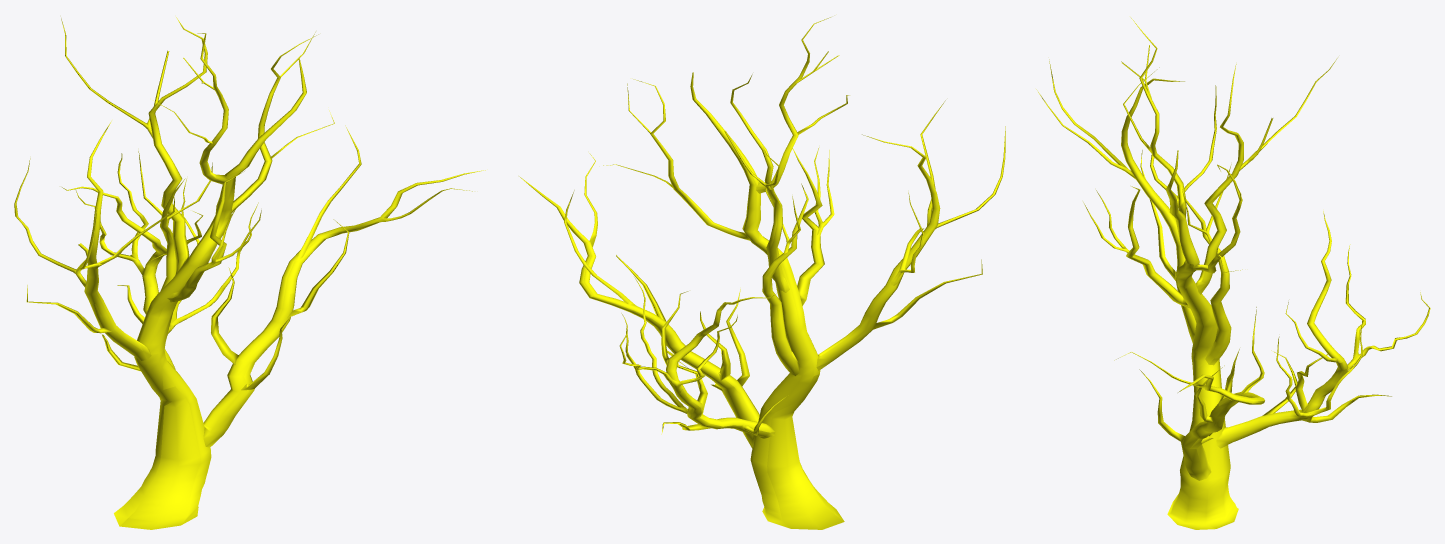
The picture shows the model from 3 angles, left to right: view 1: azimuth 30°, elevation 25°; view 2: azimuth 150°, elevation 25°; view 3: azimuth 270°, elevation 25°; orthographic projection. The views are drawn at different scales.
Parts seen in each view (by area): view 1: 枯树; view 2: 枯树; view 3: 枯树.
Boxes of the visible parts, box(x1,y1,x2,y2) form: 枯树: box(14, 17, 485, 529); 枯树: box(519, 17, 1005, 529); 枯树: box(1036, 18, 1430, 529).
Size of the model in its own units: 8.86 by 8.96 by 6.47.
1 material, 1 textured.
